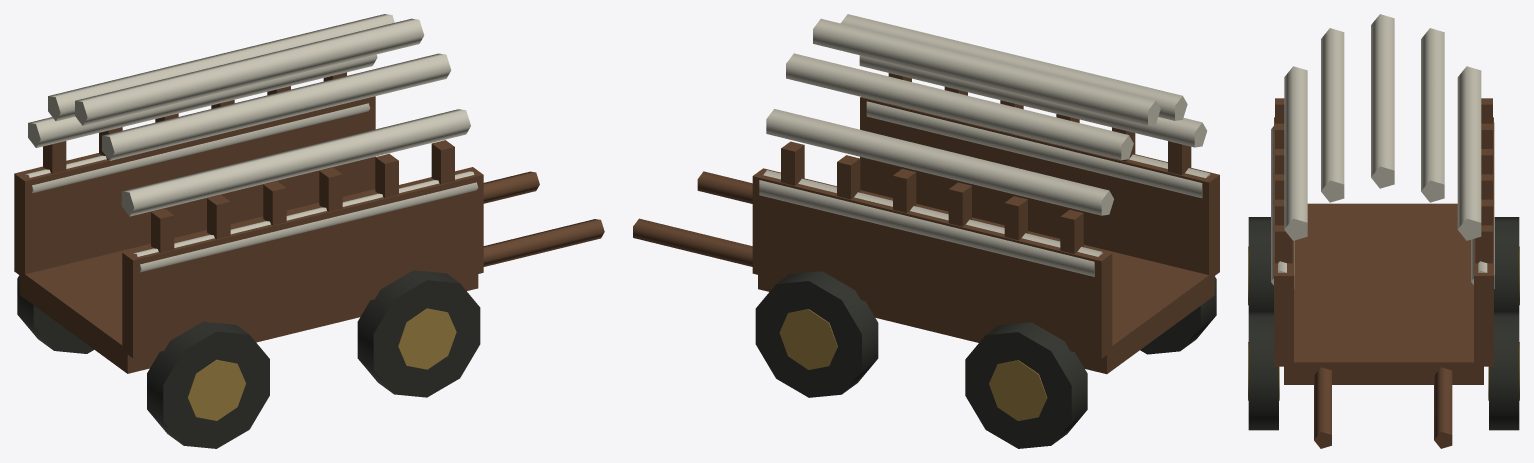
Rendered from custom-vehicle-kervan.glb.
3 views of the same model, side by side, from view 1: azimuth 30°, elevation 25°; view 2: azimuth 150°, elevation 25°; view 3: azimuth 270°, elevation 25° (orthographic). The views are drawn at different scales.
Visible parts, largest first — view 1: custom-vehicle-kervan; view 2: custom-vehicle-kervan; view 3: custom-vehicle-kervan.
Boxes of the visible parts, x1,y1,x2,y2 form: custom-vehicle-kervan: [14, 14, 604, 448]; custom-vehicle-kervan: [633, 14, 1219, 448]; custom-vehicle-kervan: [1248, 14, 1519, 448].
Size of the model in its own units: 1 by 0.6016 by 0.5147.
